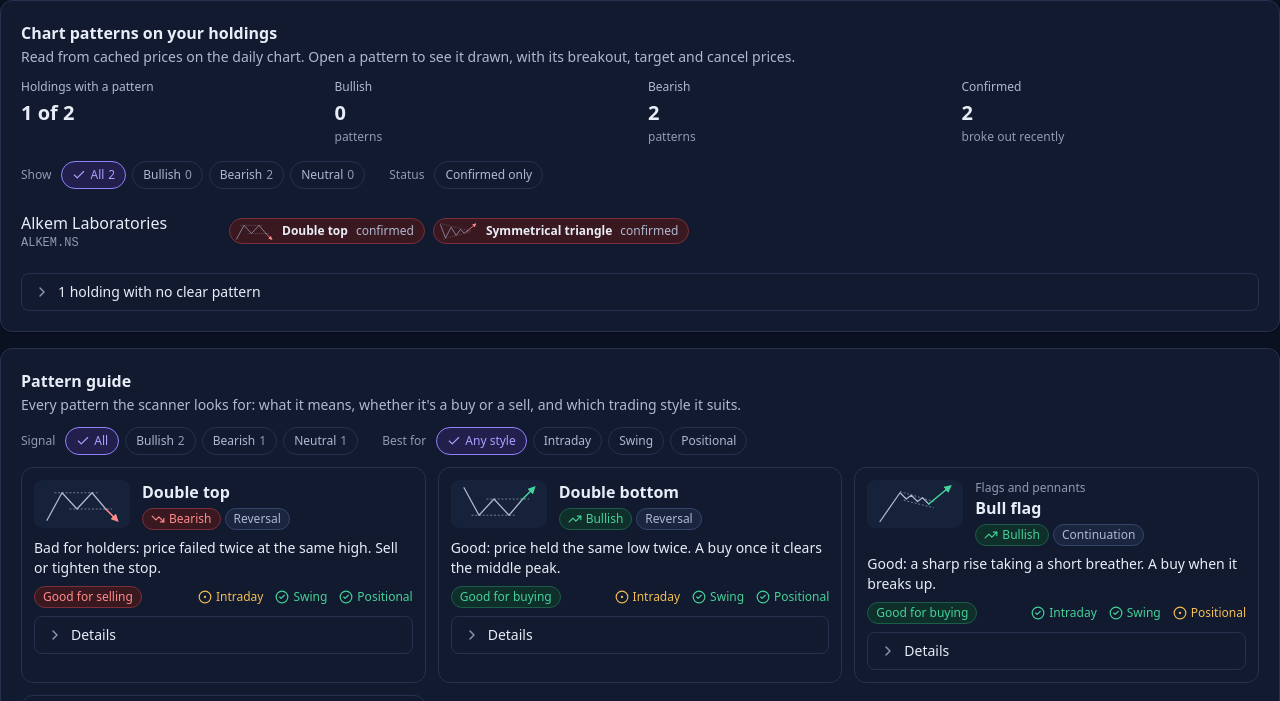
Test: HoldingsPatterns › lists holdings with their patterns, linking to each stock's patterns section
Check: the text "1 of 2" is shown, box [21,99,74,126]
Check: the link "Double top confirmed" is shown, box [229,218,425,244]
Click the button "Bullish 0". click: click(167, 175)
box: [132,161,203,189]
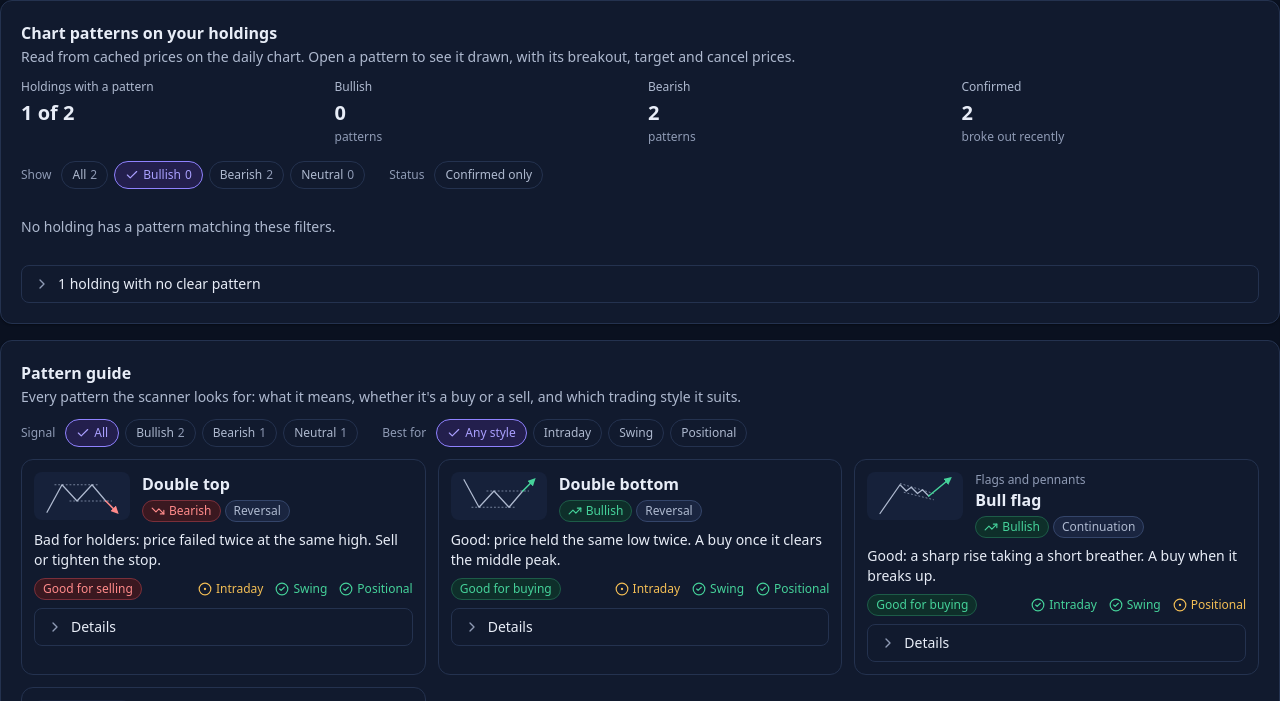
Check: the text "No holding has a pattern matching these filters." is shown, box [21,217,336,236]
